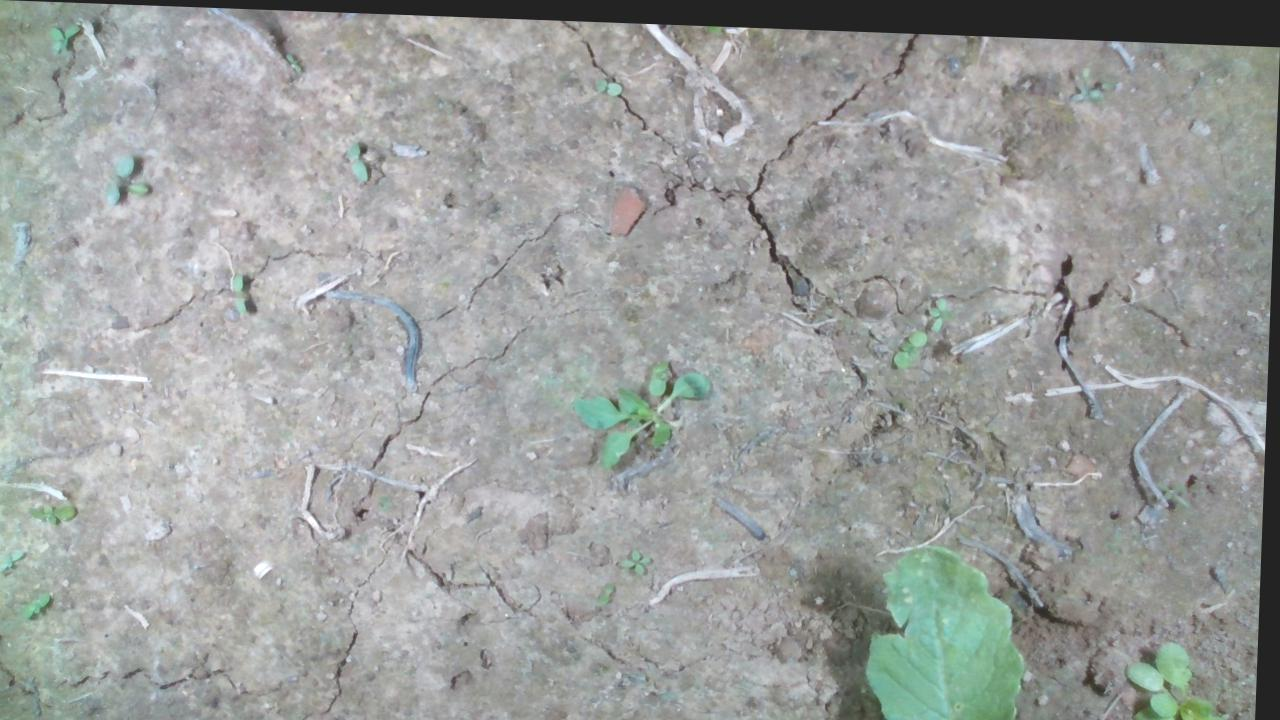weed: (103, 150, 153, 206), (893, 320, 929, 362), (29, 500, 80, 525), (345, 135, 370, 181), (23, 589, 56, 623), (620, 543, 655, 572), (230, 271, 251, 314), (0, 543, 28, 574), (593, 72, 623, 91), (284, 48, 302, 72), (602, 578, 620, 601)
